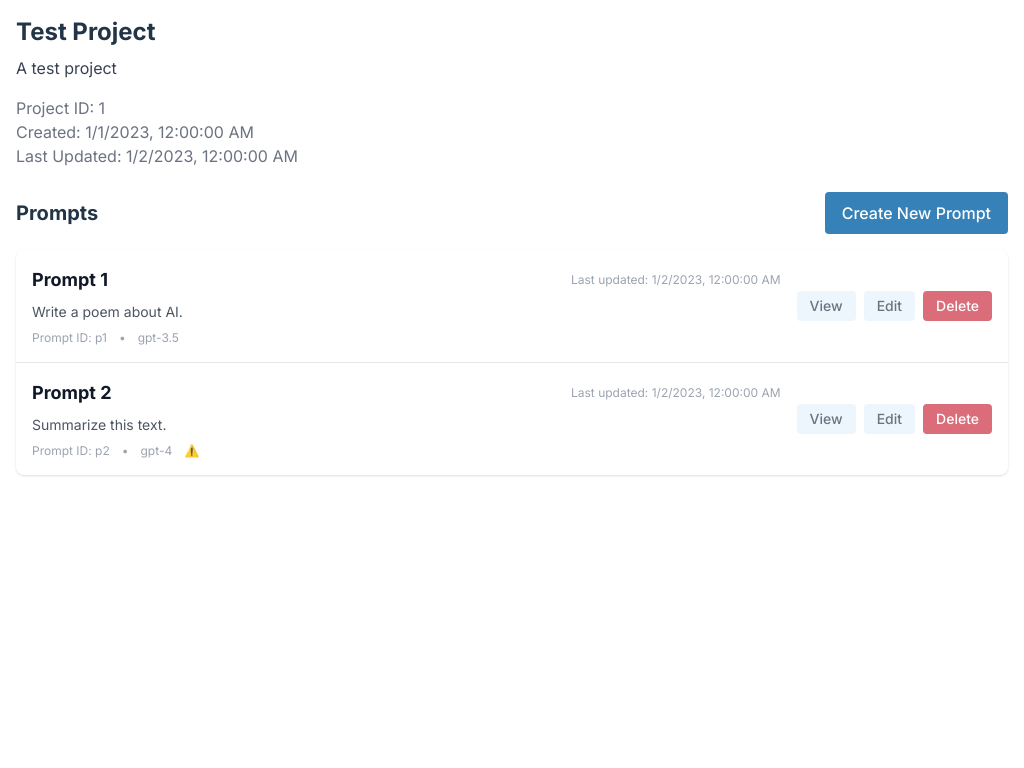
Scenario: ProjectPage › shows create prompt modal when create new prompt is clicked
Click the button "Create New Prompt". click: [916, 213]
box: [825,192,1008,234]
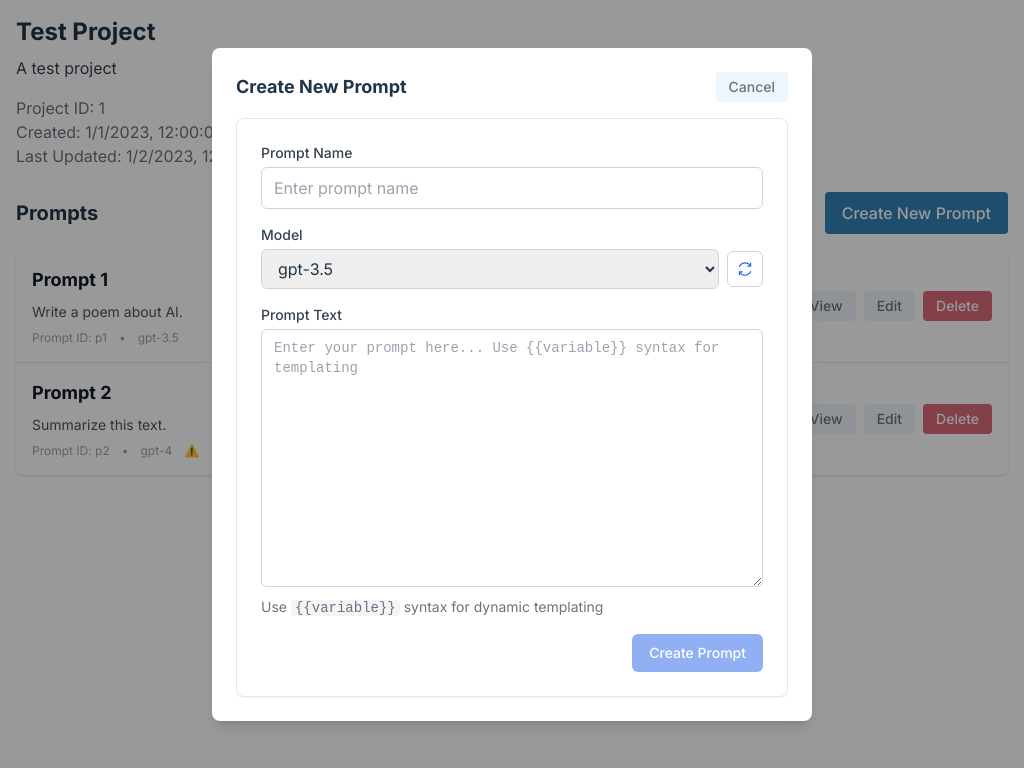
expect the element with test id "create-prompt-modal" is shown: met
expect the heading "Create New Prompt" is shown: met, box [236,72,407,100]
expect the field labelled "Prompt Name" is shown: met, box [261,166,763,208]
